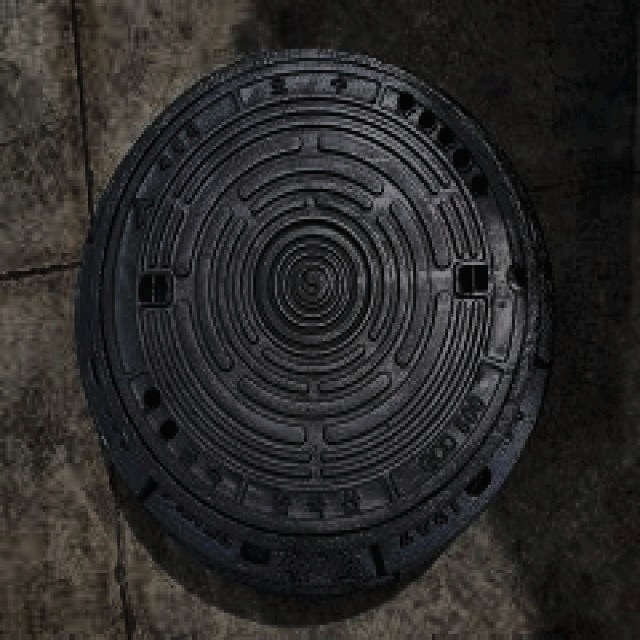Sewer Cover: (50, 30, 590, 618)
